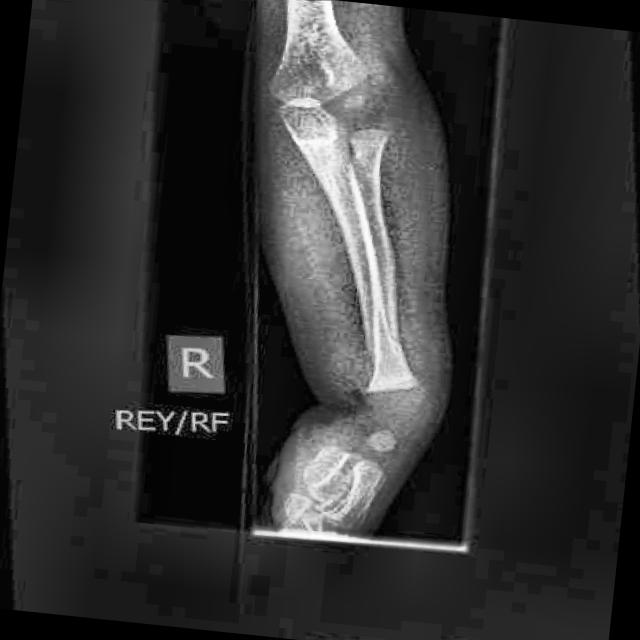forearm fracture: (373, 309, 431, 372)
